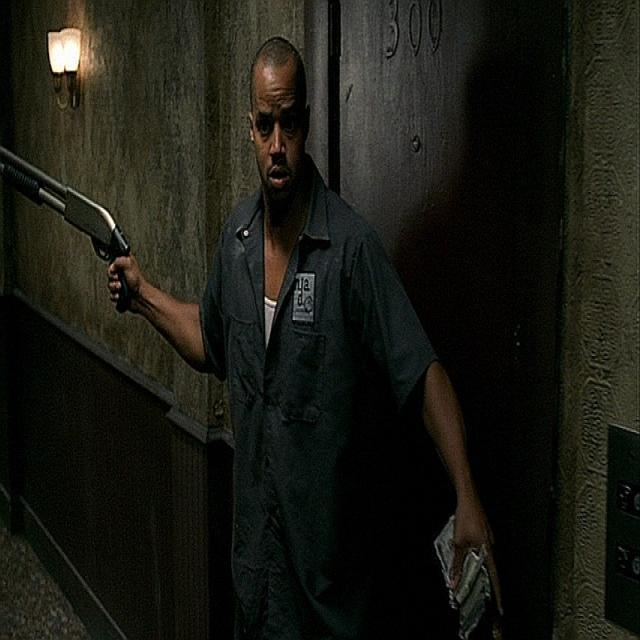gun-knife-thesis - v11 Yolov5 augmented: (3, 127, 138, 333)
